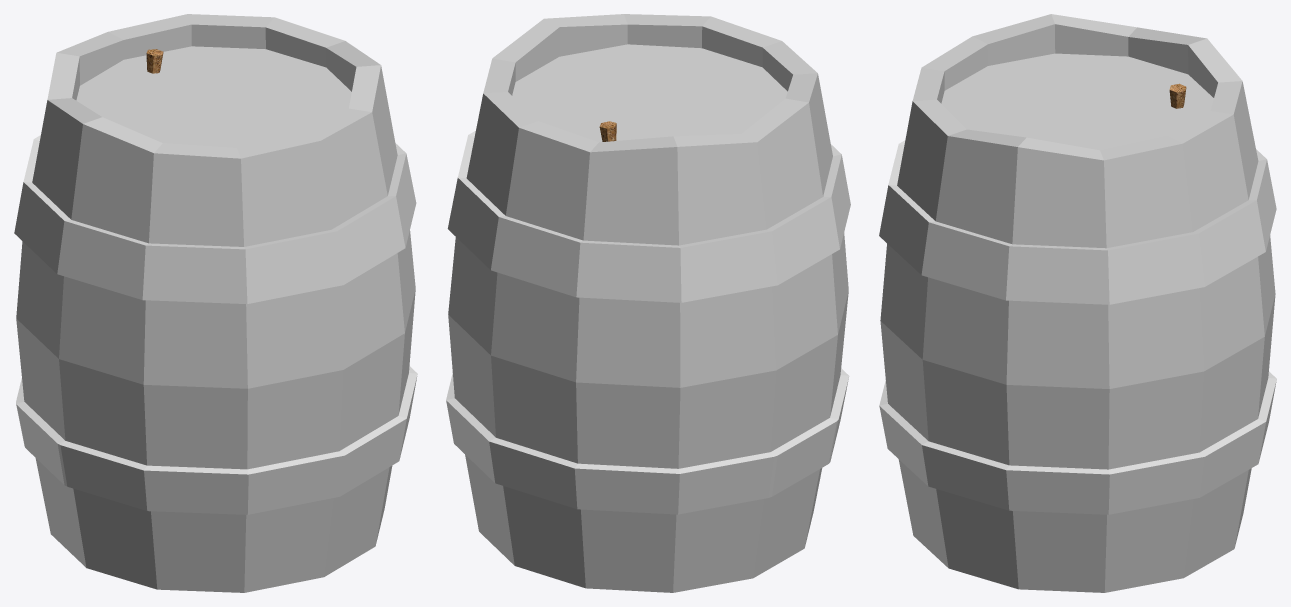
The model's file is ClosedBarrelW_ Color.fbx.
3 renders of one model, left to right at view 1: azimuth 30°, elevation 25°; view 2: azimuth 150°, elevation 25°; view 3: azimuth 270°, elevation 25°, orthographic.
Parts seen in each view (by area): view 1: Barrel; view 2: Barrel; view 3: Barrel.
Boxes of the visible parts, x1=… form: Barrel: x1=14, y1=14, x2=417, y2=592; Barrel: x1=446, y1=14, x2=850, y2=592; Barrel: x1=879, y1=14, x2=1276, y2=592.
Bounding box in the file's own units: 83.62 × 102 × 83.34.
